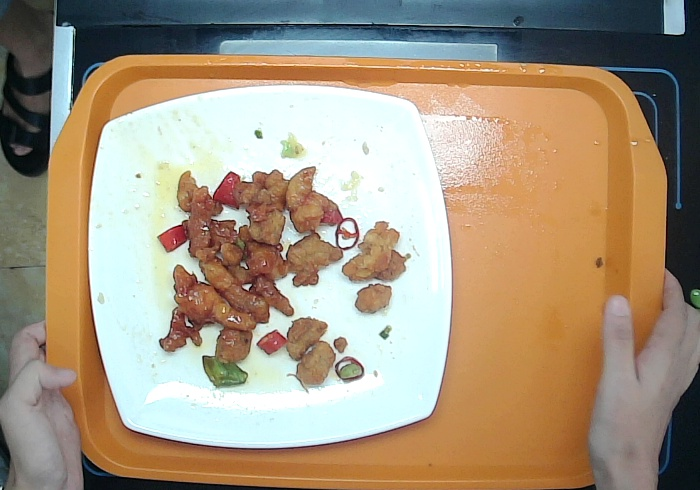ZNLD-Bai_Fang_Pan: (85, 82, 454, 451)
